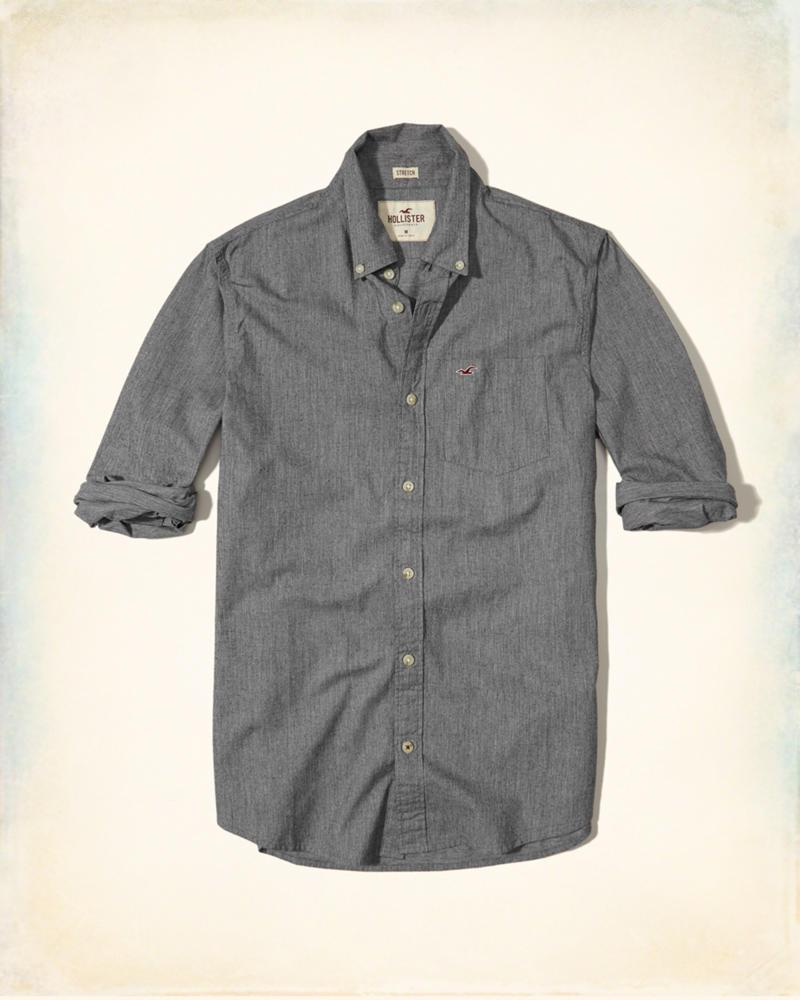teeshirt: (77, 115, 750, 889)
